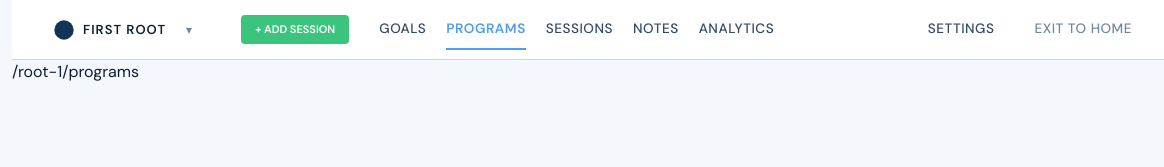
NavigationHeader › switches roots from the dropdown while preserving the current nav section
Click the button "First Root ▾" at (123, 30), box [44,10,201,50]
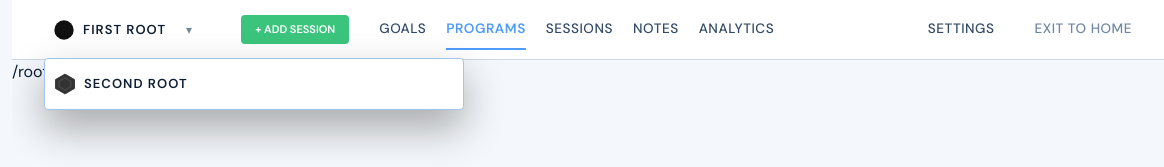
Click the menu item "Second Root" at (136, 83), box [45,64,463,104]
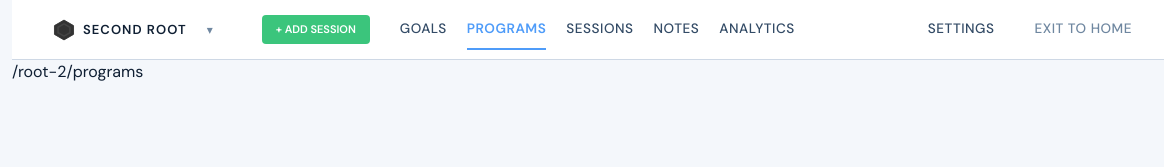
Check: the text with test id "location-path" reads "/root-2/programs", box [12,61,143,82]
